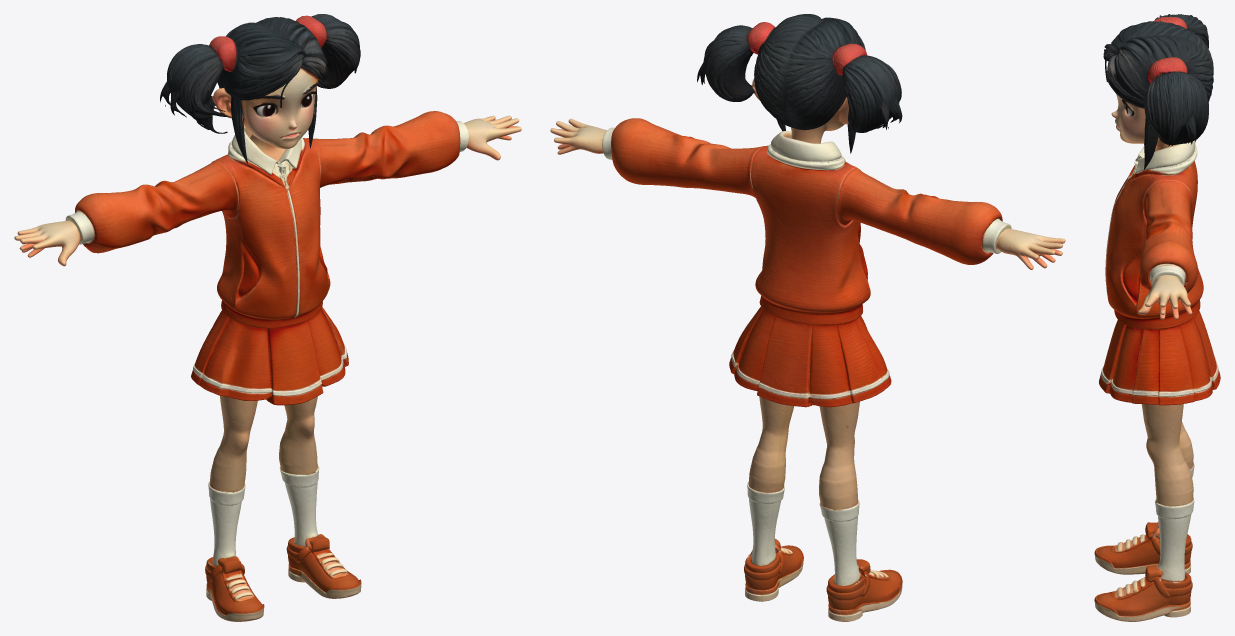
Rendered from rodin-faith-girl-2-draco.glb.
3 renders of one model, left to right at view 1: azimuth 30°, elevation 25°; view 2: azimuth 150°, elevation 25°; view 3: azimuth 270°, elevation 25°, orthographic. The views are drawn at different scales.
Size of the model in its own units: 1.75 by 1.9 by 0.3873.
Materials: 1 (1 with a texture image).
